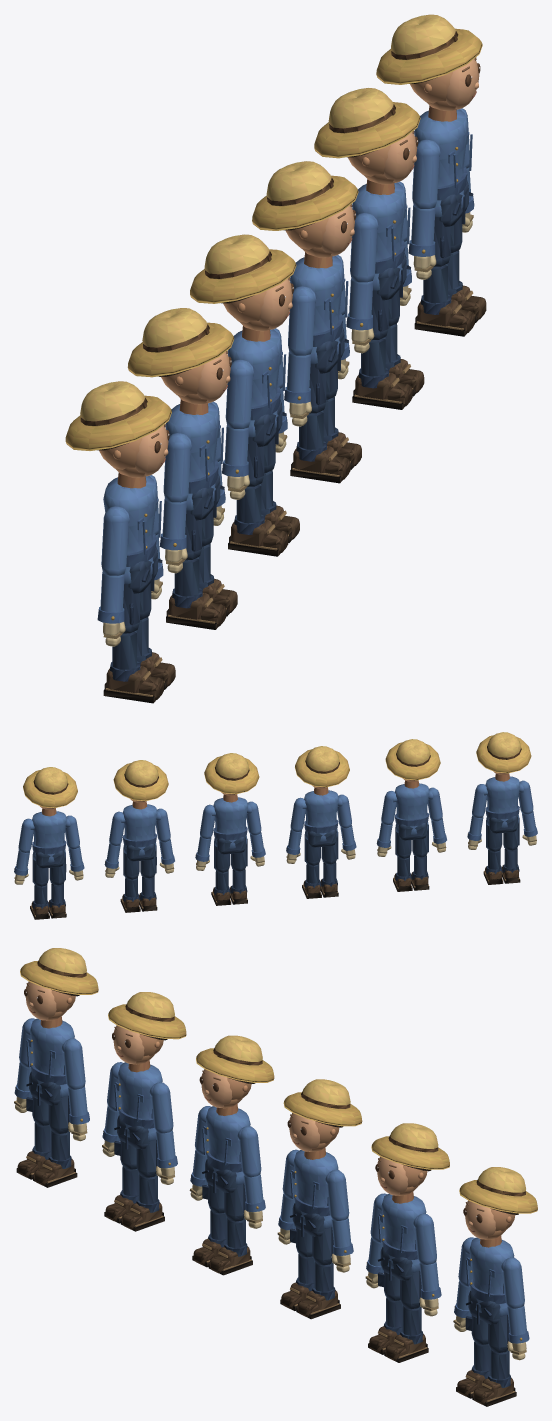
File: ba-idle-front-after.glb
3 views of the same model, one above another, from view 1: azimuth 30°, elevation 25°; view 2: azimuth 150°, elevation 25°; view 3: azimuth 270°, elevation 25° (orthographic). The views are drawn at different scales.
Visible parts, largest first — view 1: strawHat (×6), denimJacketTorso (×6), rightShin (×6), head (×6), rightUpperArm (×6), rightLowerArm (×6), leftShin (×6), trouserHips (×6); view 2: strawHat (×6), denimJacketTorso (×6), leftShin (×6), rightShin (×6), leftUpperArm (×6), rightUpperArm (×6), trouserHips (×6), leftThigh (×6), rightThigh (×6), leftLowerArm (×6), rightLowerArm (×6); view 3: strawHat (×6), denimJacketTorso (×6), leftShin (×6), head (×6), rightShin (×6), leftUpperArm (×6), leftLowerArm (×6), trouserHips (×6), leftThigh (×6).
Part boxes in pixels (x1,y1,x2,y2): strawHat (×6): (65, 14, 482, 450); denimJacketTorso (×6): (103, 105, 472, 584); rightShin (×6): (103, 263, 474, 703); head (×6): (97, 57, 480, 477); rightUpperArm (×6): (101, 139, 440, 575); rightLowerArm (×6): (97, 205, 435, 623); leftShin (×6): (137, 250, 486, 689); trouserHips (×6): (128, 179, 473, 593); strawHat (×6): (23, 732, 531, 807); denimJacketTorso (×6): (32, 773, 519, 862); leftShin (×6): (30, 849, 503, 919); rightShin (×6): (48, 848, 520, 918); leftUpperArm (×6): (18, 784, 487, 852); rightUpperArm (×6): (65, 780, 533, 849); trouserHips (×6): (35, 815, 518, 868); leftThigh (×6): (32, 820, 502, 886); rightThigh (×6): (49, 818, 519, 885); leftLowerArm (×6): (14, 816, 483, 875); rightLowerArm (×6): (68, 811, 537, 871); strawHat (×6): (20, 948, 537, 1213); denimJacketTorso (×6): (26, 1016, 514, 1316); leftShin (×6): (33, 1130, 516, 1406); head (×6): (24, 981, 518, 1239); rightShin (×6): (16, 1122, 490, 1398); leftUpperArm (×6): (61, 1038, 524, 1308); leftLowerArm (×6): (68, 1086, 529, 1343); trouserHips (×6): (26, 1071, 500, 1324); leftThigh (×6): (48, 1096, 509, 1352).
Size of what is drawn, in the model's own units: 6.04 by 2.41 by 5.21.
